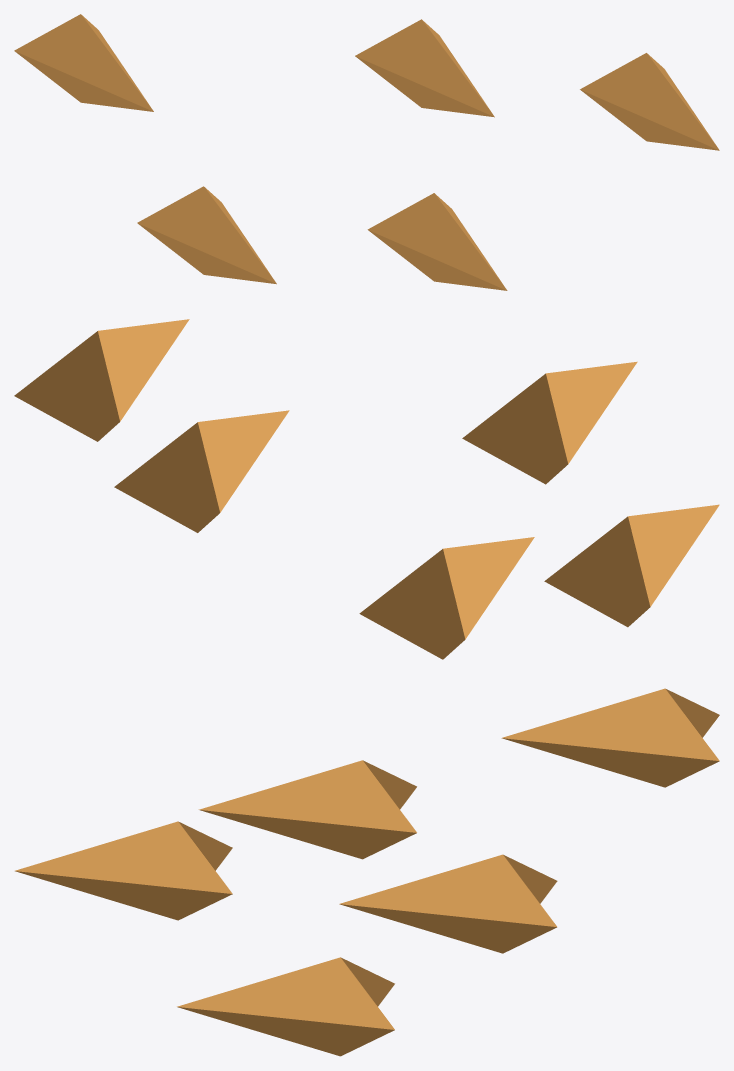
The model's file is BronzeArrowheadStack5.glb.
3 renders of one model, top to bottom at view 1: azimuth 30°, elevation 25°; view 2: azimuth 150°, elevation 25°; view 3: azimuth 270°, elevation 25°, orthographic. The views are drawn at different scales.
Parts seen in each view (by area): view 1: BronzeArrowheadStack5; view 2: BronzeArrowheadStack5; view 3: BronzeArrowheadStack5.
Part boxes in pixels (x1,y1,x2,y2): BronzeArrowheadStack5: (14, 14, 719, 290); BronzeArrowheadStack5: (14, 319, 719, 659); BronzeArrowheadStack5: (15, 688, 719, 1056).
Size of the model in its own units: 0.3089 by 0.0906 by 0.3261.
